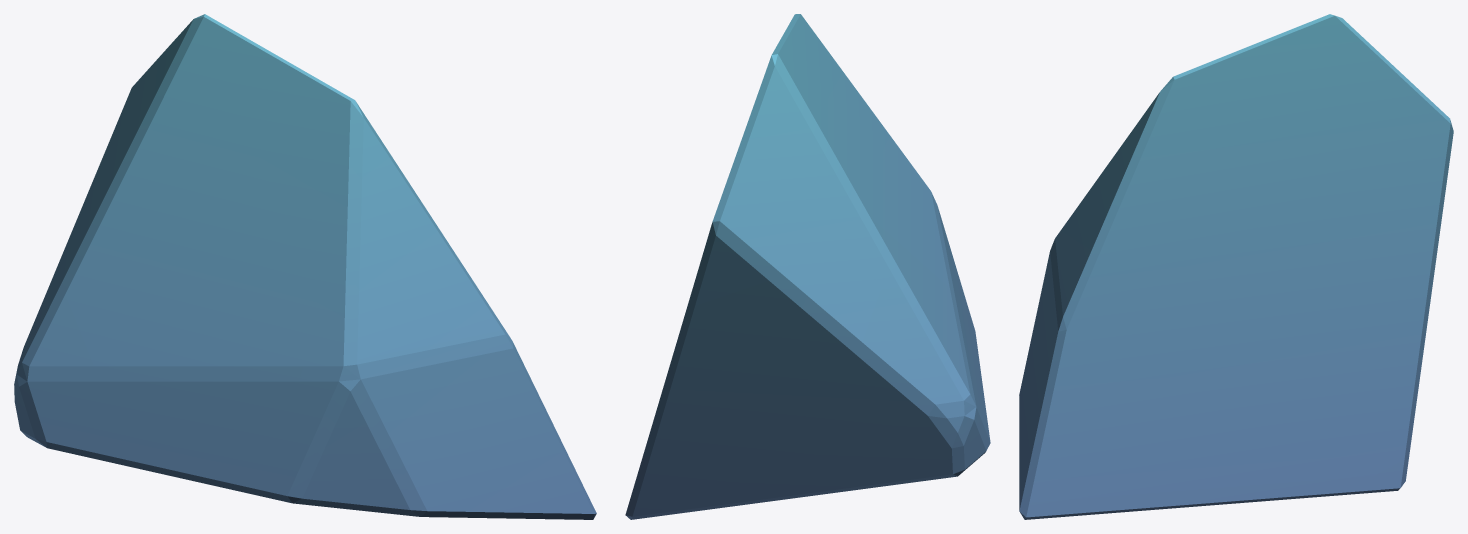
File: cristal_estilhaco_4.fbx
3 renders of one model, left to right at view 1: azimuth 30°, elevation 25°; view 2: azimuth 150°, elevation 25°; view 3: azimuth 270°, elevation 25°, orthographic. The views are drawn at different scales.
Parts seen in each view (by area): view 1: cristal_estilhaco_4; view 2: cristal_estilhaco_4; view 3: cristal_estilhaco_4.
Boxes of the visible parts, x1=… form: cristal_estilhaco_4: x1=14, y1=14, x2=596, y2=519; cristal_estilhaco_4: x1=625, y1=14, x2=990, y2=519; cristal_estilhaco_4: x1=1019, y1=14, x2=1453, y2=519.
Bounding box in the file's own units: 3.14 × 3.31 × 3.05.
